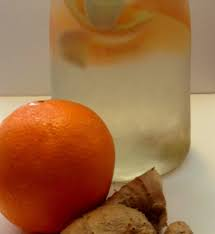orange: (1, 97, 119, 234)
